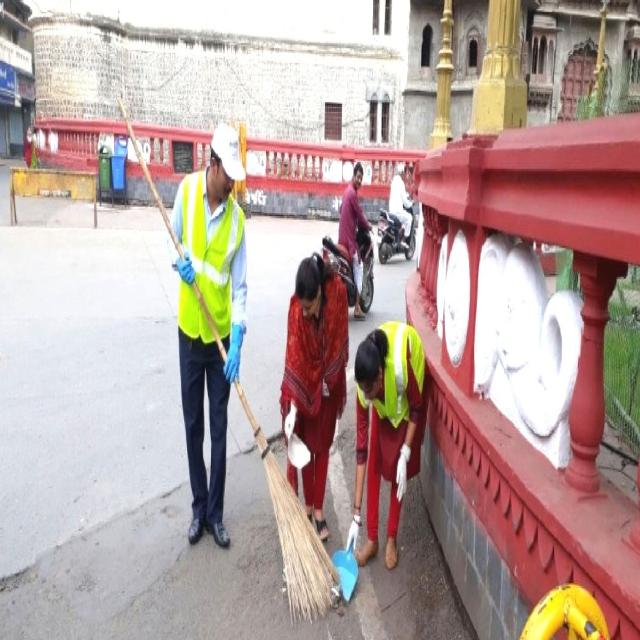Clean road: (0, 161, 510, 640)
